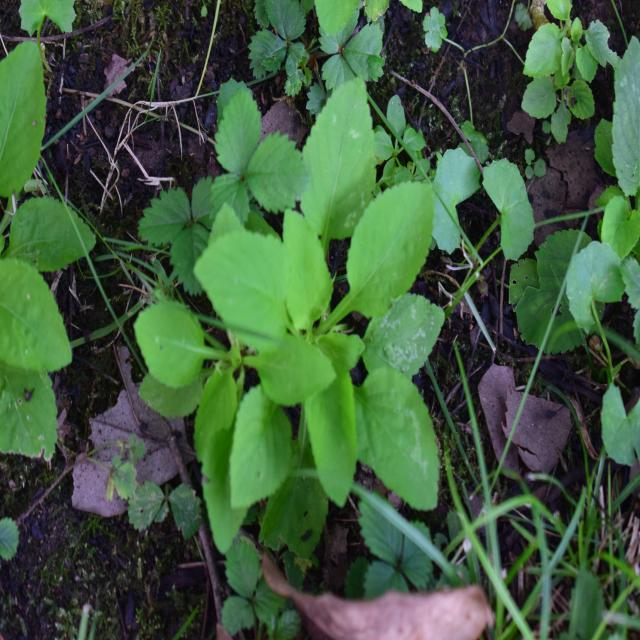Viola: (128, 110, 454, 519)
